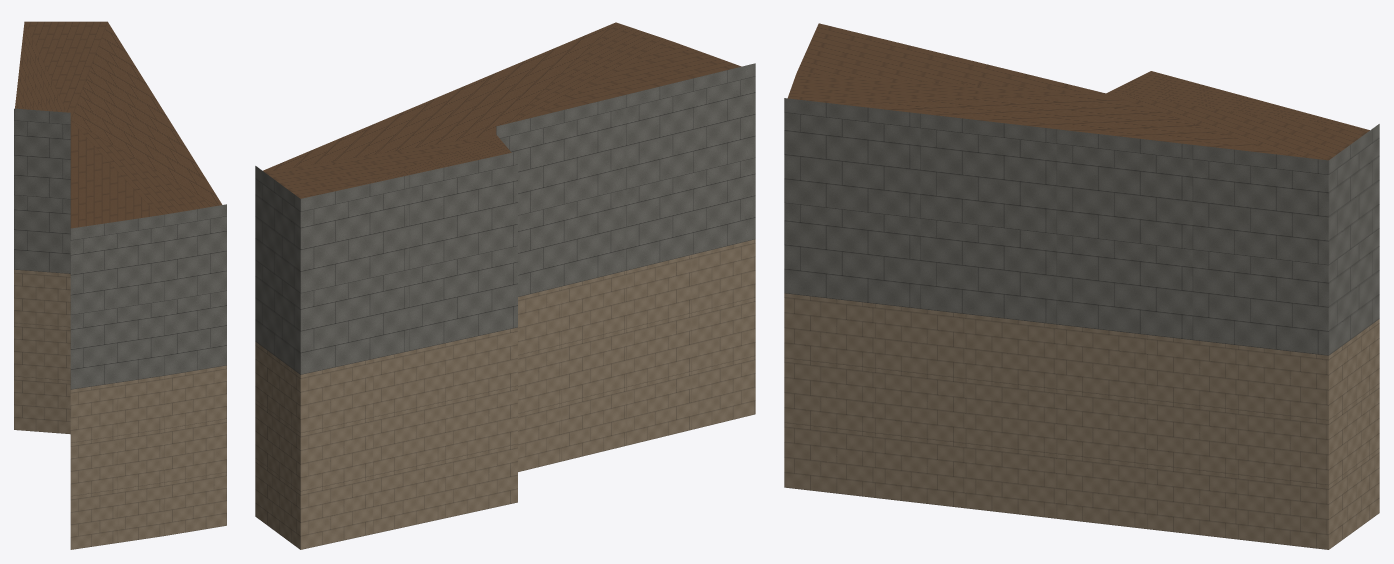
The model's file is bld_c36_-26_437.gltf.
The picture shows the model from 3 angles, left to right: view 1: azimuth 30°, elevation 25°; view 2: azimuth 150°, elevation 25°; view 3: azimuth 270°, elevation 25°; orthographic projection. The views are drawn at different scales.
Parts seen in each view (by area): view 1: bld_c36_-26_437; view 2: bld_c36_-26_437; view 3: bld_c36_-26_437.
Part boxes in pixels (x1,y1,x2,y2): bld_c36_-26_437: (14, 21, 226, 549); bld_c36_-26_437: (255, 22, 755, 549); bld_c36_-26_437: (784, 23, 1379, 549).
Size of the model in its own units: 8.13 by 10.08 by 13.96.
4 materials, 4 textured.
